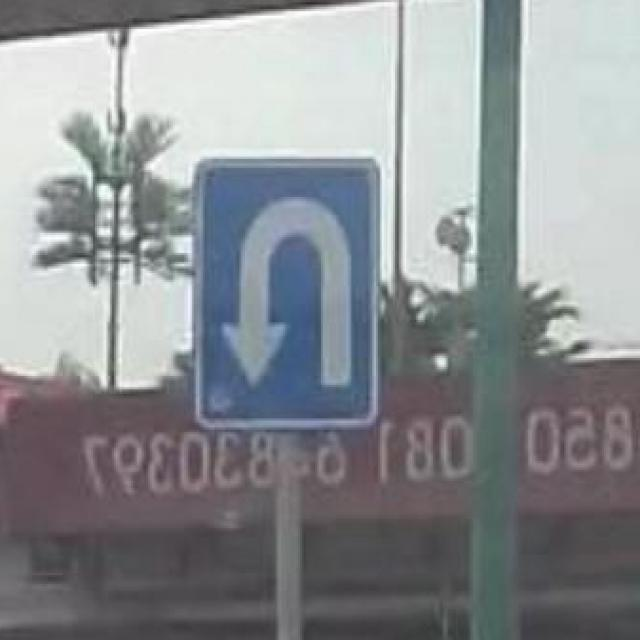U-turn: (194, 157, 377, 427)
